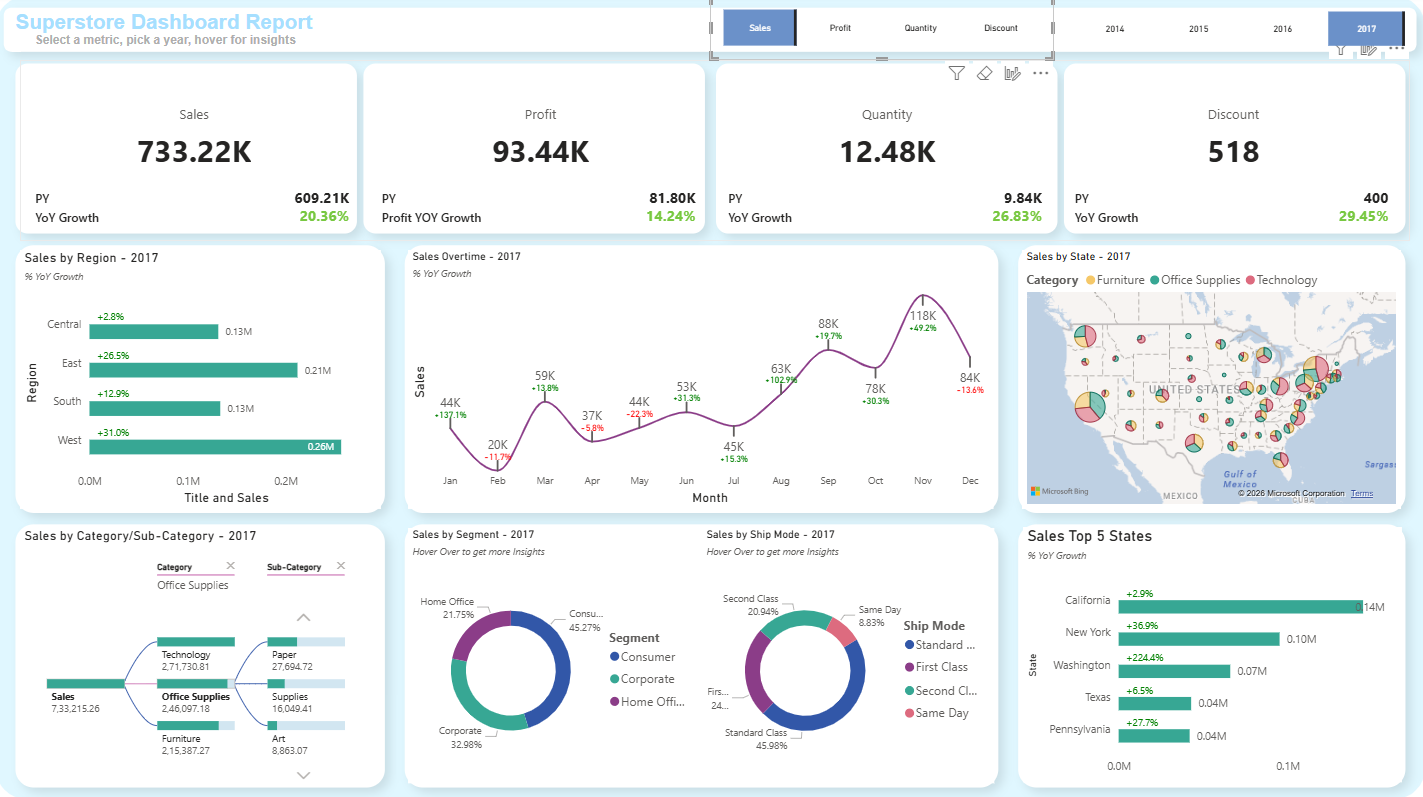

The dashboard page shown, as its layout file describes it:
{"tool":"powerbi","page":{"name":"Dashboard Report","canvas":[1600,900],"ordinal":0},"visuals":[{"type":"cardVisual","fields":{"Data":["Measure Table.Total Sales","Measure Table.Total Profit","Measure Table.Total Quantity Sold","Measure Table.Total Discount"]},"box":[28.9,71.1,1541,200],"z":0},{"type":"advancedSlicerVisual","fields":{"Values":["DimDate.Year"]},"box":[1195.2,12,374.7,48.2],"z":1000},{"type":"advancedSlicerVisual","fields":{"Values":["Select Measure.Select Measure"]},"box":[793.8,0,380.6,70.4],"z":2000},{"type":"clusteredBarChart","fields":{"Y":["Measure Table.Title","Measure Table.Total Quantity Sold"],"Category":["DimLocation.Region"]},"box":[28.4,281.8,400,287],"z":3000},{"type":"decompositionTreeVisual","fields":{"Analyze":["Measure Table.Total Quantity Sold"],"ExplainBy":["DimProducts.Category","DimProducts.Sub-Category"]},"box":[28.9,589.2,400,298.8],"z":4000},{"type":"lineChart","fields":{"Y":["Measure Table.Total Quantity Sold"],"Category":["DimDate.Month"]},"box":[459.2,281.8,648.9,287.2],"z":5000},{"type":"donutChart","fields":{"Y":["Measure Table.Total Quantity Sold"],"Category":["DimCustomers.Segment"]},"box":[459.2,589.3,322,283.1],"z":6000},{"type":"donutChart","fields":{"Y":["Measure Table.Total Quantity Sold"],"Category":["DimOrders.Ship Mode"]},"box":[784.3,589.3,323.8,283.1],"z":7000},{"type":"map","fields":{"Category":["DimLocation.State"],"Series":["DimProducts.Category"],"Size":["Measure Table.Total Quantity Sold"]},"box":[1139.8,281.9,419.3,286.7],"z":8000},{"type":"clusteredBarChart","fields":{"Category":["DimLocation.State"],"Y":["Measure Table.Title","Select Measure.SelectedMeasureValue"]},"box":[1141,589,420,283],"z":9000}]}

Visuals, with their boxes on the page's 1600x900 design canvas (x1, y1, x2, y2). These are canvas units, not pixel positions in the 1423x797 screenshot, which may show the page scaled, cropped or inside an application window:
cardVisual - Measure Table.Total Sales x Measure Table.Total Profit: 29:71:1570:271
advancedSlicerVisual - DimDate.Year: 1195:12:1570:60
advancedSlicerVisual - Select Measure.Select Measure: 794:0:1174:70
clusteredBarChart - Measure Table.Title x Measure Table.Total Quantity Sold: 28:282:428:569
decompositionTreeVisual - Measure Table.Total Quantity Sold x DimProducts.Category: 29:589:429:888
lineChart - Measure Table.Total Quantity Sold x DimDate.Month: 459:282:1108:569
donutChart - Measure Table.Total Quantity Sold x DimCustomers.Segment: 459:589:781:872
donutChart - Measure Table.Total Quantity Sold x DimOrders.Ship Mode: 784:589:1108:872
map - DimLocation.State x DimProducts.Category: 1140:282:1559:569
clusteredBarChart - DimLocation.State x Measure Table.Title: 1141:589:1561:872
